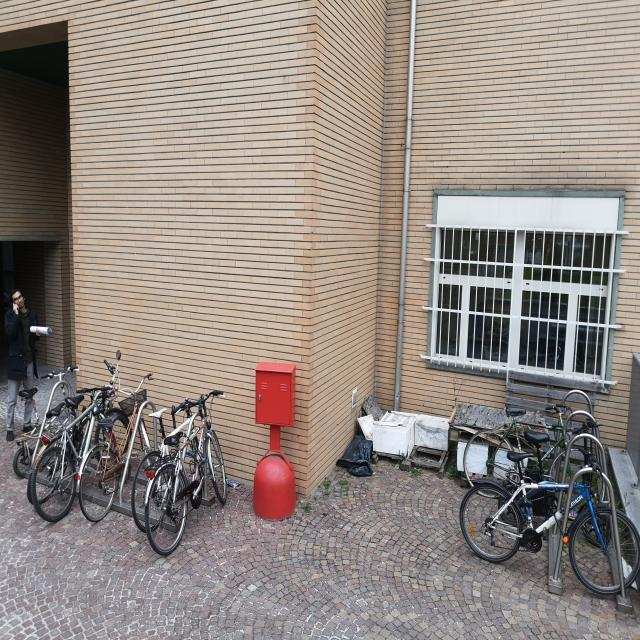Bicycle: (462, 441, 639, 614), (148, 378, 248, 576), (483, 368, 610, 504), (23, 345, 109, 472), (49, 384, 125, 510), (136, 384, 210, 505), (93, 381, 148, 505)
